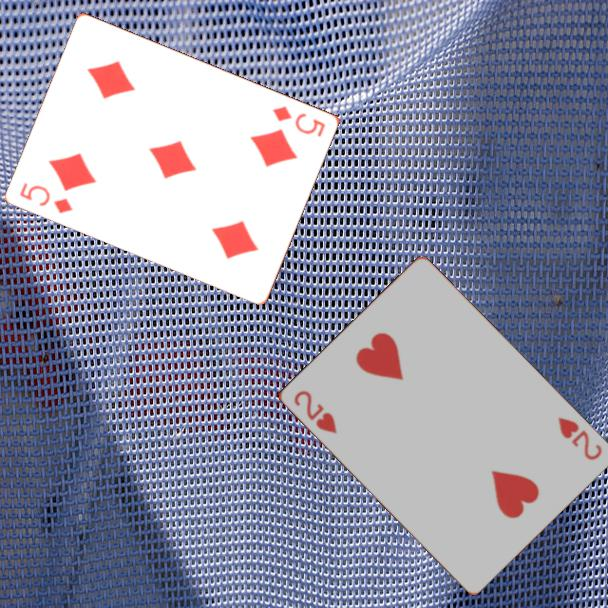d05: (269, 102, 329, 140), (16, 179, 76, 216)
h02: (553, 413, 605, 463), (290, 387, 340, 437)
